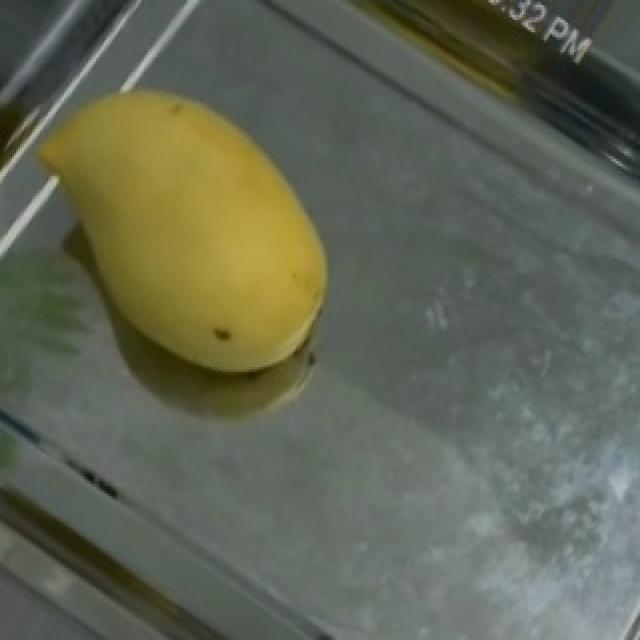fruit: (20, 44, 402, 427)
